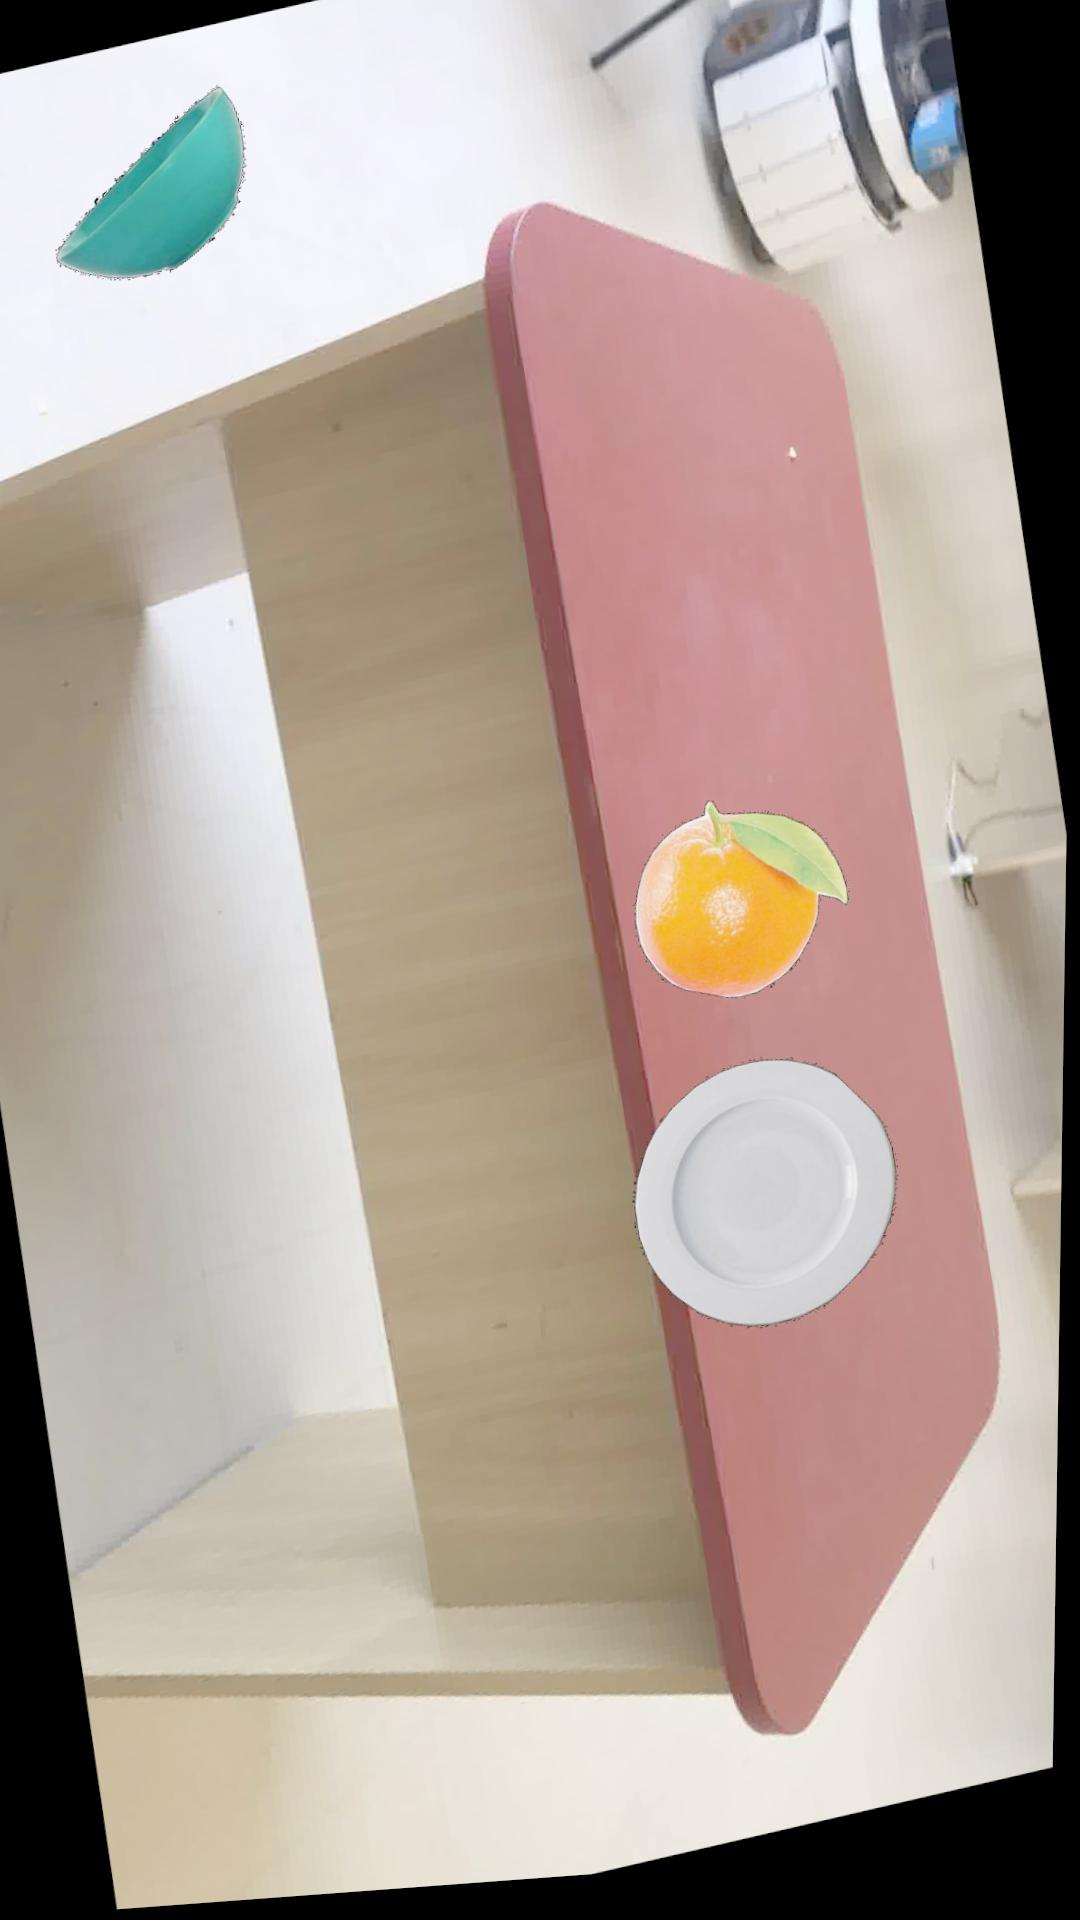bowl: (55, 88, 244, 280)
orange: (636, 811, 849, 1009)
plate: (634, 1069, 898, 1337)
